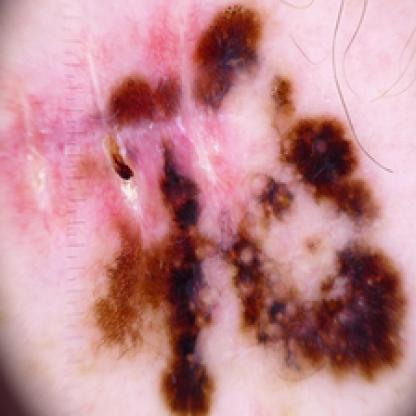Skin_Cancer-Malignant: (94, 3, 414, 416)
